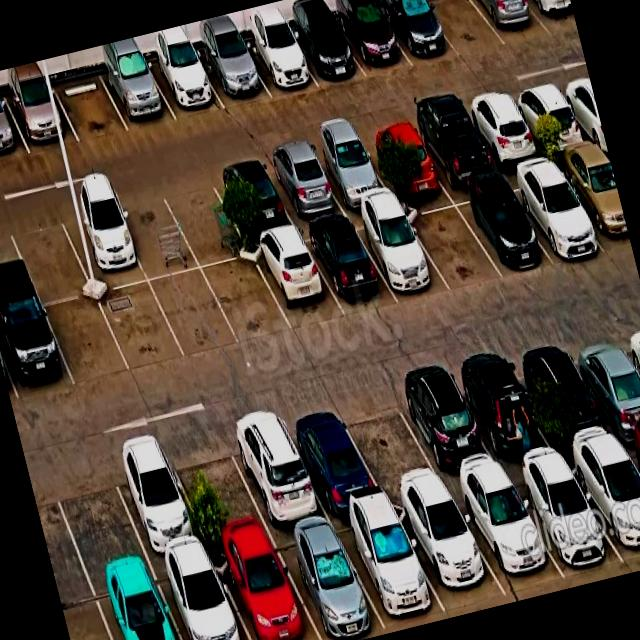car: (467, 476, 556, 605), (348, 514, 438, 632), (529, 468, 614, 583), (413, 496, 492, 616), (120, 464, 204, 576), (288, 528, 371, 640), (303, 424, 385, 532), (240, 438, 323, 544), (223, 542, 311, 640), (522, 164, 600, 270), (410, 391, 491, 493), (467, 182, 548, 282), (260, 230, 338, 332), (362, 198, 438, 302), (310, 212, 386, 314), (527, 360, 601, 460), (472, 376, 546, 476), (164, 557, 250, 640), (370, 115, 444, 207), (0, 295, 65, 397), (585, 447, 640, 563), (322, 130, 391, 218), (422, 104, 492, 190), (520, 80, 586, 170), (582, 344, 640, 445), (473, 90, 538, 176), (66, 204, 134, 286), (97, 580, 186, 640), (296, 7, 359, 91), (202, 32, 266, 111), (224, 167, 289, 240), (274, 148, 338, 222), (342, 0, 404, 76), (152, 44, 215, 118), (251, 20, 310, 96), (11, 80, 68, 153), (390, 0, 448, 68), (110, 58, 166, 125), (479, 0, 538, 49), (524, 0, 576, 36), (0, 91, 23, 165)
free: (62, 480, 147, 596), (178, 448, 264, 561), (354, 408, 435, 502), (209, 250, 285, 346), (46, 288, 120, 384), (414, 198, 489, 291), (101, 278, 176, 368), (159, 266, 230, 360), (170, 178, 239, 264), (121, 194, 188, 277), (18, 220, 84, 295), (56, 69, 120, 141), (431, 0, 492, 54), (0, 235, 28, 306)
